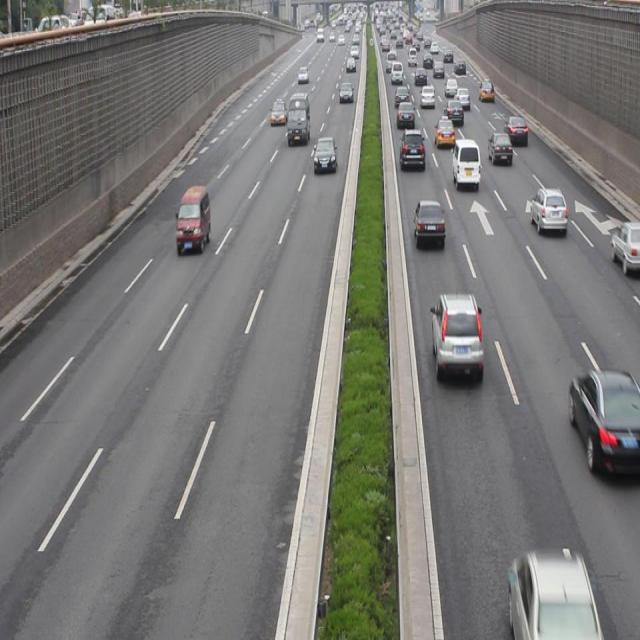car: (568, 370, 640, 473), (430, 293, 482, 382), (529, 187, 566, 233), (414, 199, 444, 248), (398, 129, 424, 170), (313, 138, 337, 173), (488, 131, 512, 163), (503, 116, 527, 148), (434, 116, 453, 148), (443, 98, 462, 126), (396, 101, 413, 130)
truck: (177, 187, 208, 250), (453, 138, 478, 189), (287, 93, 308, 144)
